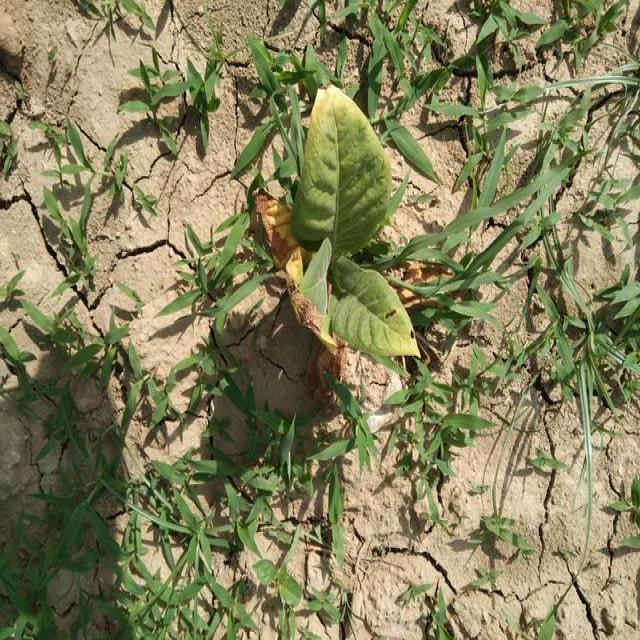crop: (279, 66, 435, 405)
